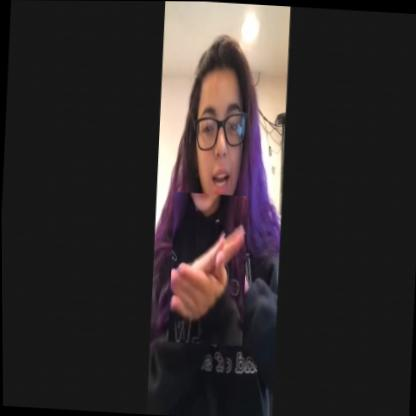NiceToMeetYou: (166, 191, 249, 345)
